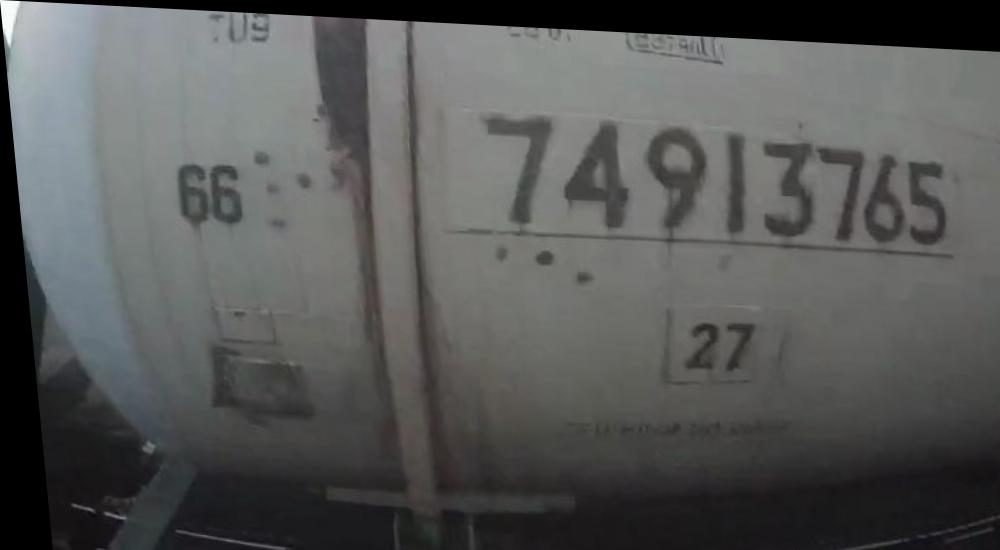Wagon-number: (474, 106, 951, 247)
